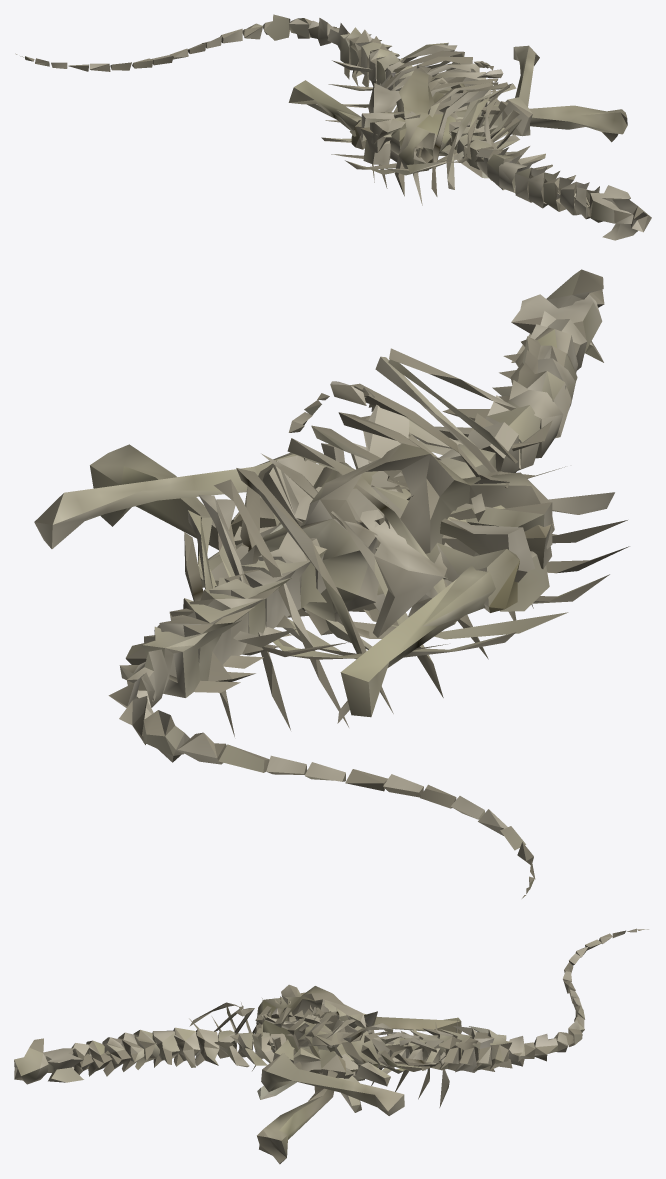
Rendered from wildcat.glb.
3 views of the same model, one above another, from view 1: azimuth 30°, elevation 25°; view 2: azimuth 150°, elevation 25°; view 3: azimuth 270°, elevation 25° (orthographic). The views are drawn at different scales.
Parts seen in each view (by area): view 1: wildcat; view 2: wildcat; view 3: wildcat.
Part boxes in pixels (x1,y1,x2,y2): wildcat: [15, 14, 651, 240]; wildcat: [34, 269, 629, 898]; wildcat: [14, 928, 648, 1164].
Size of the model in its own units: 0.7249 by 0.2048 by 0.9989.
Materials: 1 (1 with a texture image).
